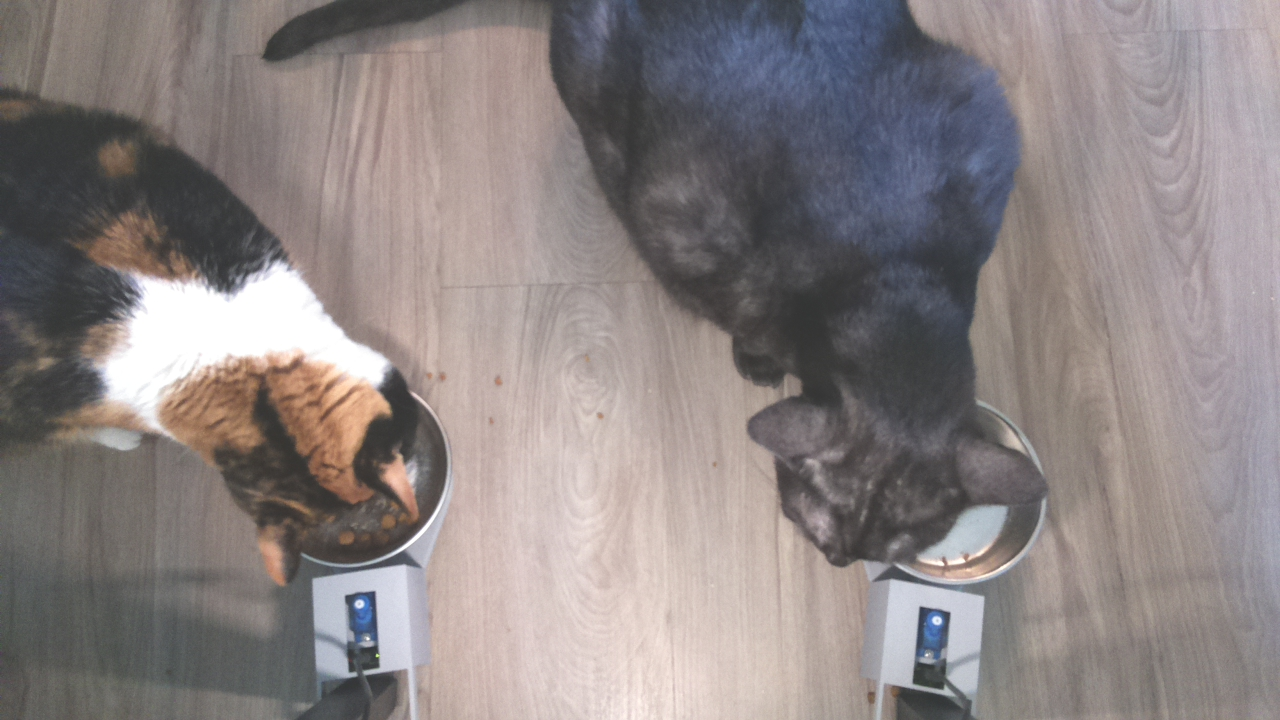bella_eating: (165, 271, 456, 598)
saki_eating: (716, 359, 1064, 583)
